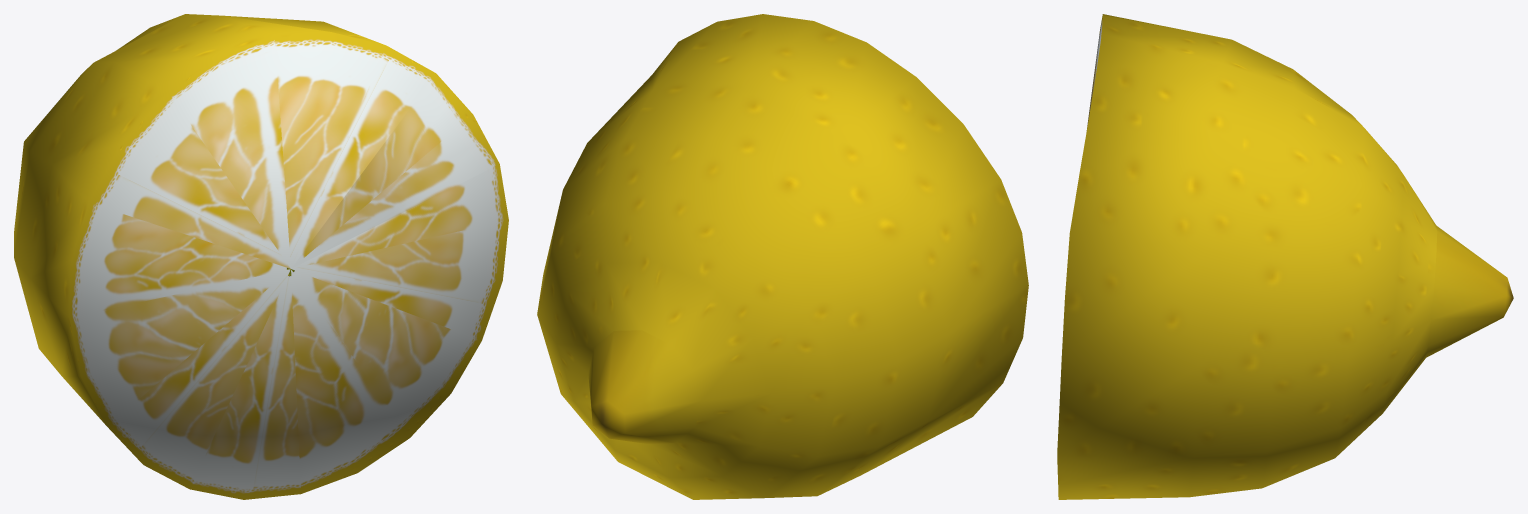
File: lemonTipHalf.fbx
The picture shows the model from 3 angles, left to right: view 1: azimuth 30°, elevation 25°; view 2: azimuth 150°, elevation 25°; view 3: azimuth 270°, elevation 25°; orthographic projection. The views are drawn at different scales.
Parts seen in each view (by area): view 1: lemonTipHalf; view 2: lemonTipHalf; view 3: lemonTipHalf.
Boxes of the visible parts, left/top/right/bottom form: lemonTipHalf: left=14, top=14, right=508, bottom=499; lemonTipHalf: left=537, top=14, right=1028, bottom=499; lemonTipHalf: left=1057, top=14, right=1513, bottom=499.
Size of the model in its own units: 18.58 by 18.49 by 17.35.
